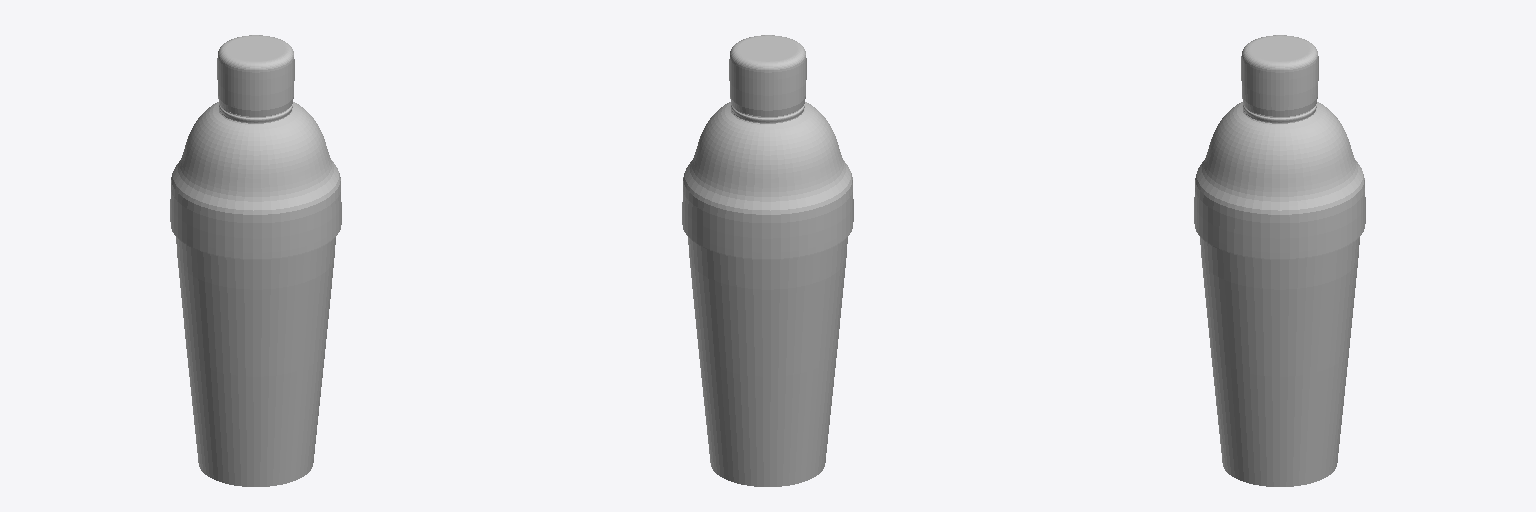
The model's file is cocktail_shaker.obj.
The picture shows the model from 3 angles: view 1: azimuth 30°, elevation 25°; view 2: azimuth 150°, elevation 25°; view 3: azimuth 270°, elevation 25°; orthographic projection.
Parts seen in each view (by area): view 1: Cylinder; view 2: Cylinder; view 3: Cylinder.
Part boxes in pixels (x1,y1,x2,y2): Cylinder: (170,35,341,486); Cylinder: (682,35,853,486); Cylinder: (1194,35,1365,486).
Bounding box in the file's own units: 0.1798 × 0.4796 × 0.1798.